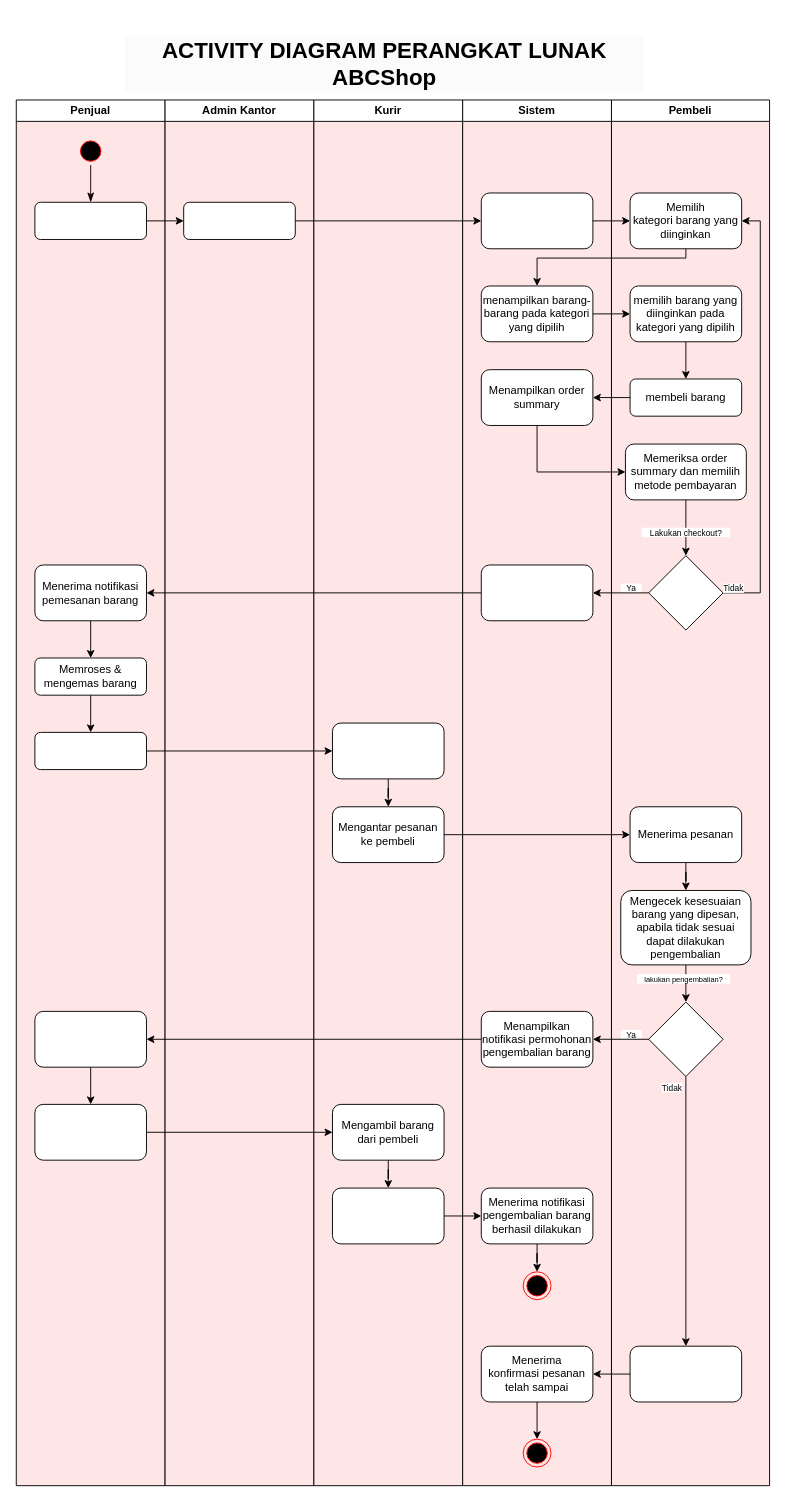
The diagram is 786 pixels wide and 1502 high, and some of its shapes have lost their labels. Here are the shapes that lost their labels. From the top down, the centre of each, then its label:
At [90,220]: "Memasukan barang untuk dijual".
At [239,220]: "Menyetujui pemasukan barang".
At [536,220]: "Menampilkan beberapa kategori tersedia".
At [536,592]: "Menampilkan notifikasi pemesanan barang".
At [90,750]: "Mengirim pesanan ke kurir".
At [388,750]: "Menerima pesanan dari penjual".
At [90,1038]: "Menerima notifikasi permohonan pengembalian barang".
At [90,1131]: "memeroses pengembalian barang dan dana(apabila metode transfer)".
At [388,1215]: "mengkonfirmasi barang telah berhasil dikembalikan".
At [685,1373]: "Mengonfirmasi pesanan telah sampai".
